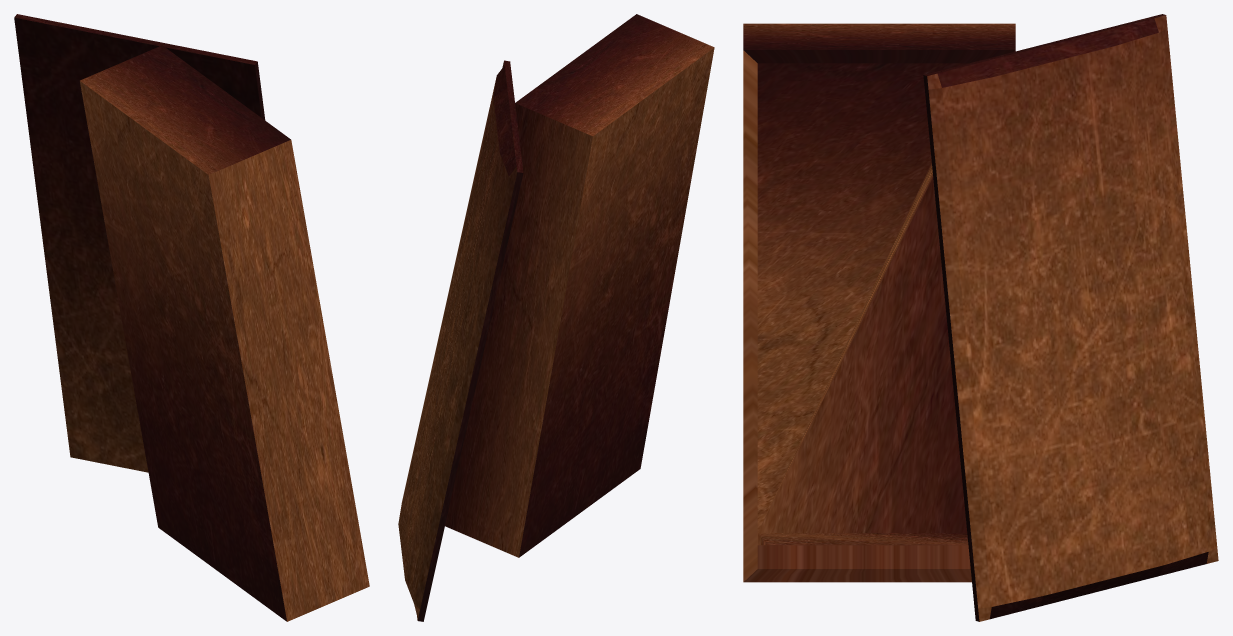
Rendered from CoffinOpen.fbx.
The picture shows the model from 3 angles, left to right: view 1: azimuth 30°, elevation 25°; view 2: azimuth 150°, elevation 25°; view 3: azimuth 270°, elevation 25°; orthographic projection. The views are drawn at different scales.
Parts seen in each view (by area): view 1: Cube.005; view 2: Cube.005; view 3: Cube.005.
Part boxes in pixels (bbox=[...]): Cube.005: bbox=[14, 14, 369, 621]; Cube.005: bbox=[398, 14, 714, 621]; Cube.005: bbox=[743, 14, 1218, 621].
Size of the model in its own units: 386 by 820 by 692.
